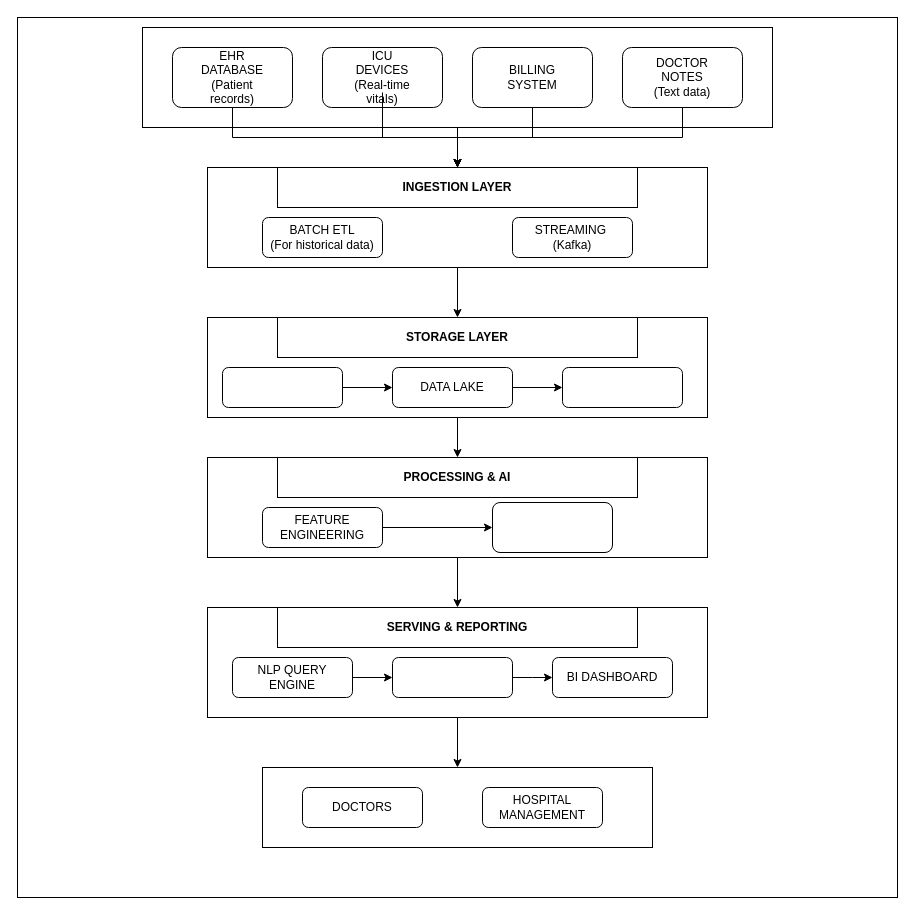
Image size: 915x915. Some labels were removed from this diagram. The box of each missing label's shape, as (x1, y1, x2, y2) in pixels:
API LAYER: (392, 656, 512, 698)
DATA WAREHOUSE (Snowflake): (562, 366, 682, 408)
ML MODEL (Readmission prediction): (492, 502, 612, 552)
OLTP DATABASE (PostgreSQL): (222, 366, 342, 408)
